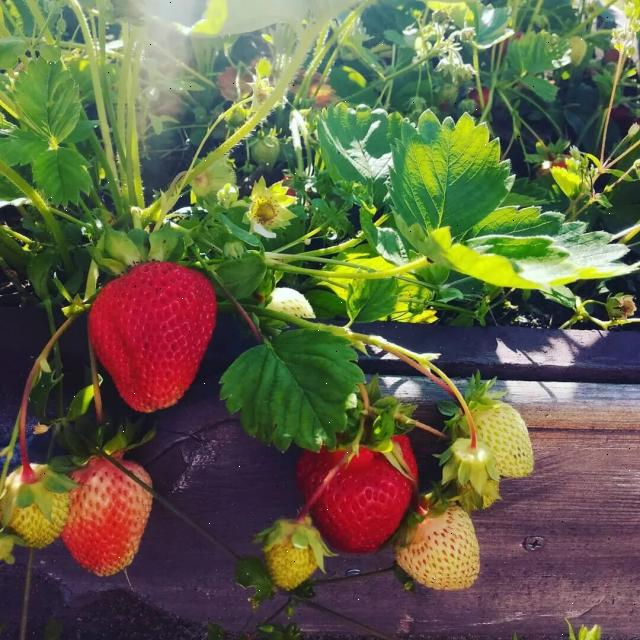Ripe Strawberry: (84, 245, 227, 421), (296, 430, 420, 560), (67, 458, 154, 593)
